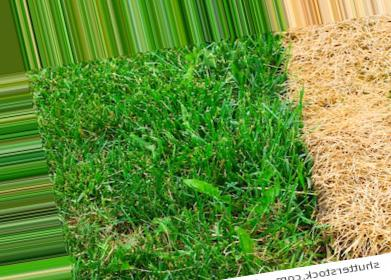patch: (304, 25, 391, 108), (320, 119, 391, 177), (341, 186, 391, 214)
